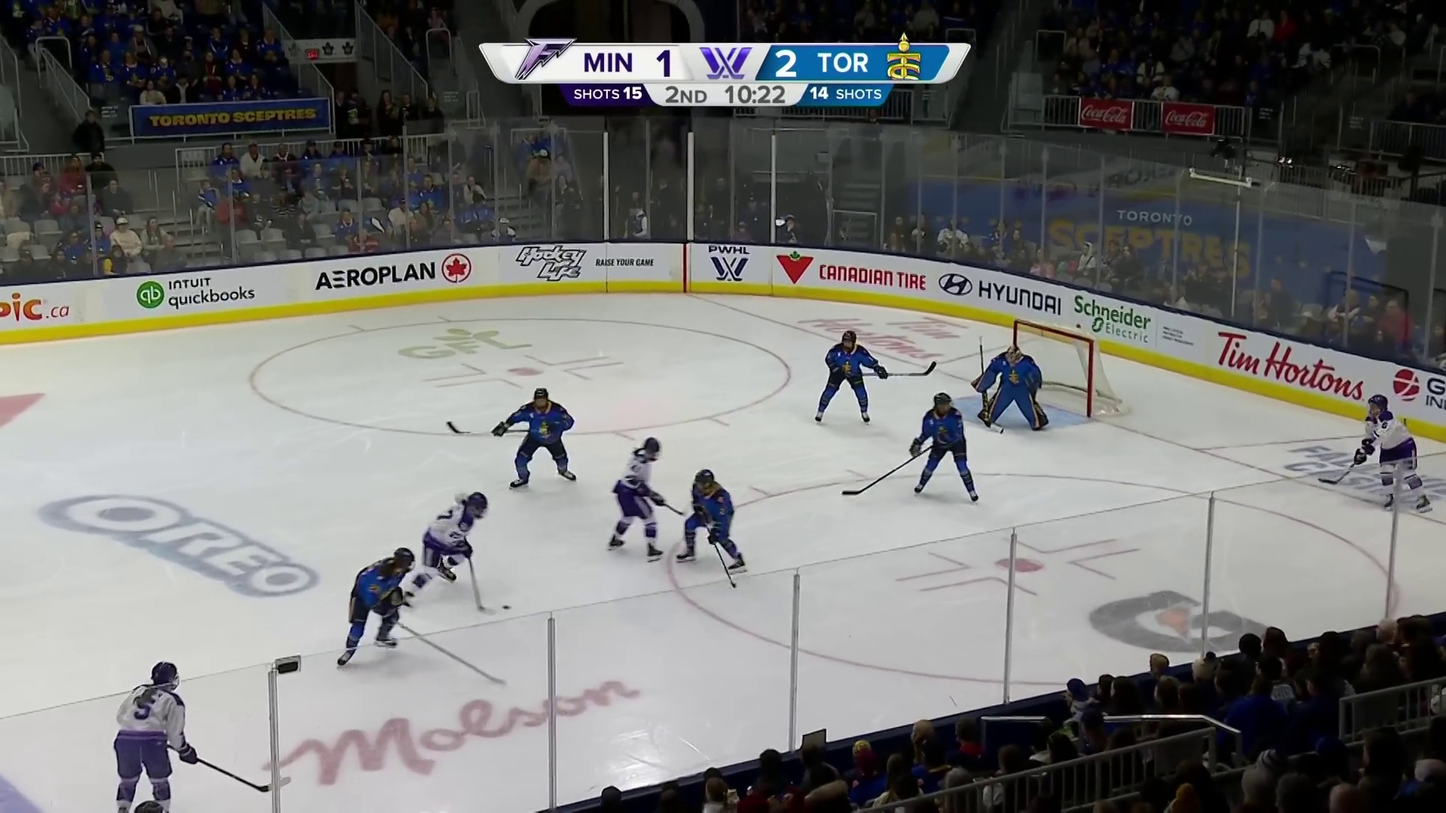goalkeeper: (972, 345, 1047, 433)
player: (333, 548, 416, 668), (408, 492, 490, 608), (1353, 393, 1432, 513), (491, 388, 576, 489), (906, 392, 979, 505), (674, 469, 750, 577), (608, 434, 667, 563), (813, 331, 888, 428)
puck: (502, 605, 510, 610)
